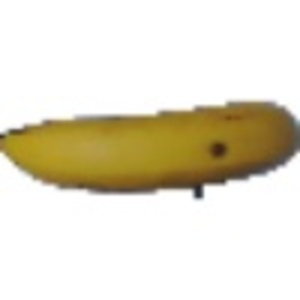banana: (3, 100, 297, 201)
